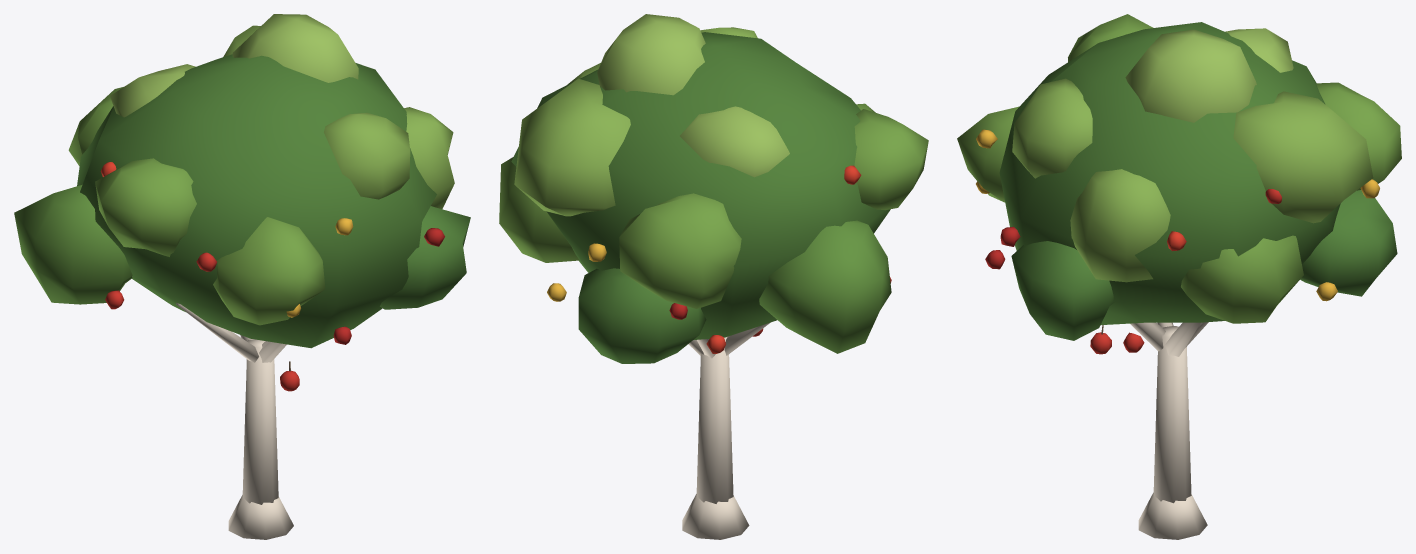
The model's file is apple.glb.
3 views of the same model, side by side, from view 1: azimuth 30°, elevation 25°; view 2: azimuth 150°, elevation 25°; view 3: azimuth 270°, elevation 25° (orthographic). The views are drawn at different scales.
Visible parts, largest first — view 1: apple, apple_fruit; view 2: apple, apple_fruit; view 3: apple, apple_fruit.
Boxes of the visible parts, left/top/right/bottom form: apple: left=14, top=14, right=470, bottom=539; apple_fruit: left=100, top=162, right=444, bottom=344; apple: left=499, top=14, right=928, bottom=539; apple_fruit: left=547, top=165, right=891, bottom=353; apple: left=957, top=14, right=1401, bottom=539; apple_fruit: left=976, top=129, right=1379, bottom=352.
Size of the model in its own units: 4.47 by 5.57 by 4.38.
